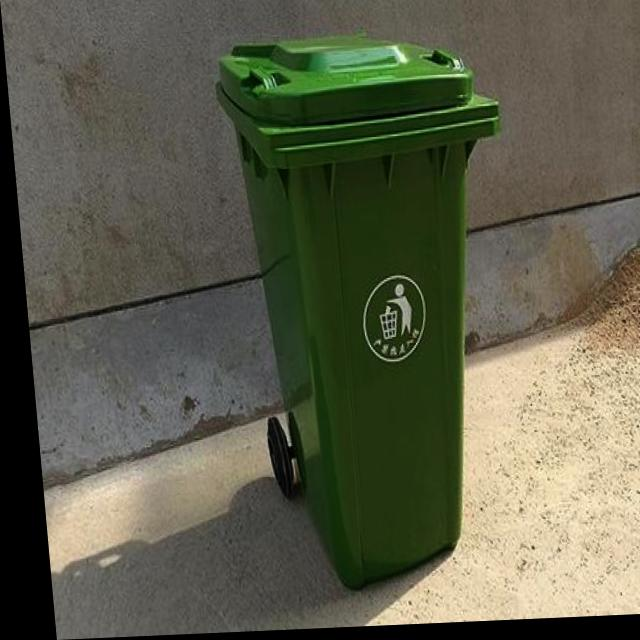garbage_bin: (208, 28, 527, 593)
